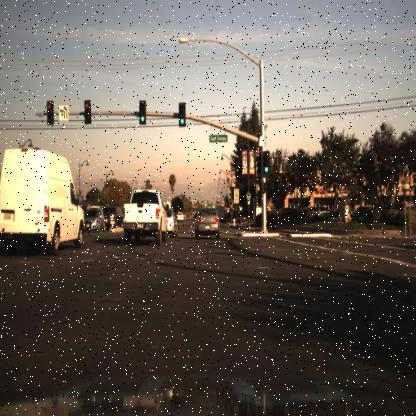car: (0, 140, 87, 260), (119, 180, 169, 250), (190, 202, 224, 246), (10, 188, 36, 230)
trafficLight: (82, 99, 90, 127)
trafficLight-Green: (136, 94, 150, 130), (174, 105, 188, 136), (260, 147, 272, 180), (177, 100, 187, 132), (138, 103, 146, 127), (261, 154, 268, 180)
trafficLight-RedLeft: (44, 97, 57, 135), (83, 96, 93, 132), (44, 97, 54, 123)
truck: (0, 148, 85, 259)
